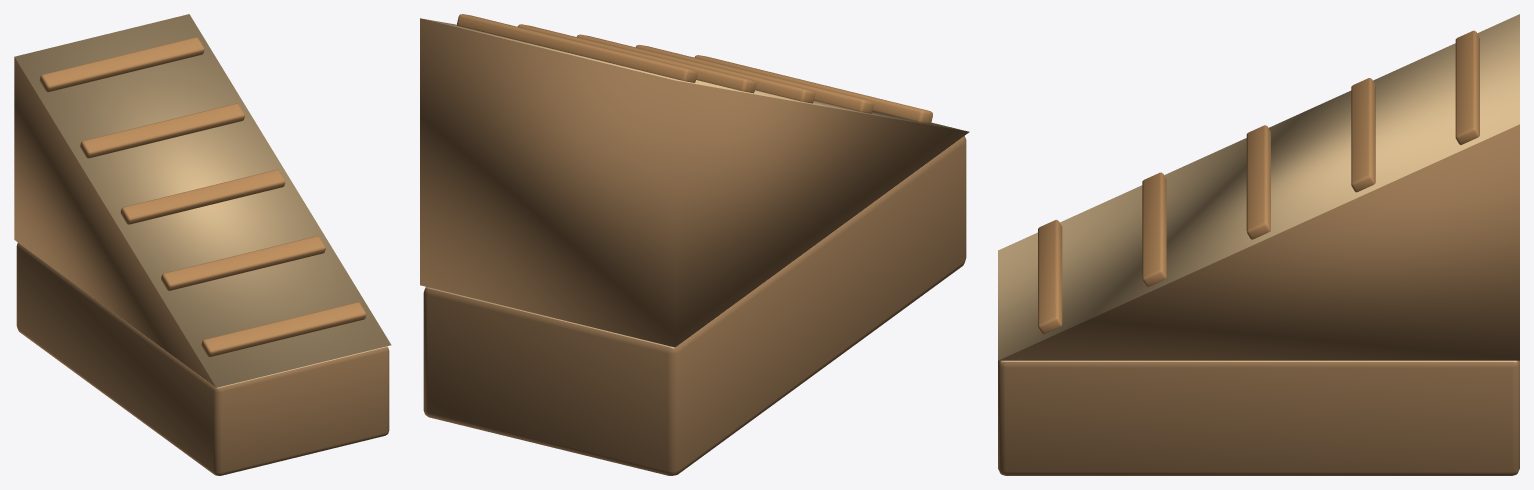
File: tile-ramp.glb
The picture shows the model from 3 angles, left to right: view 1: azimuth 30°, elevation 25°; view 2: azimuth 150°, elevation 25°; view 3: azimuth 270°, elevation 25°; orthographic projection. The views are drawn at different scales.
Visible parts, largest first — view 1: tile; view 2: tile; view 3: tile.
Boxes of the visible parts, x1,y1,x2,y2 form: tile: (14, 14, 391, 475); tile: (420, 14, 969, 475); tile: (998, 14, 1519, 475).
Bounding box in the file's own units: 1 × 1.5 × 2.
